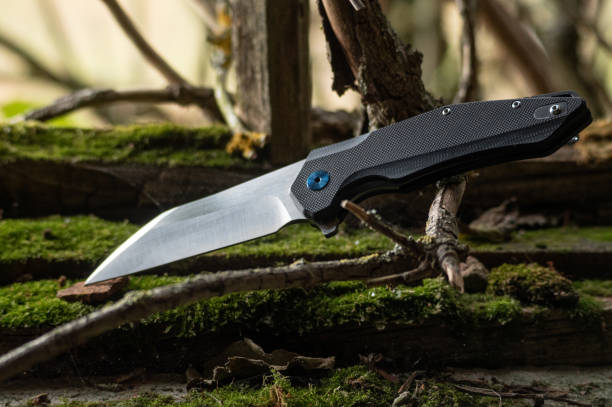knife: (81, 87, 596, 288)
